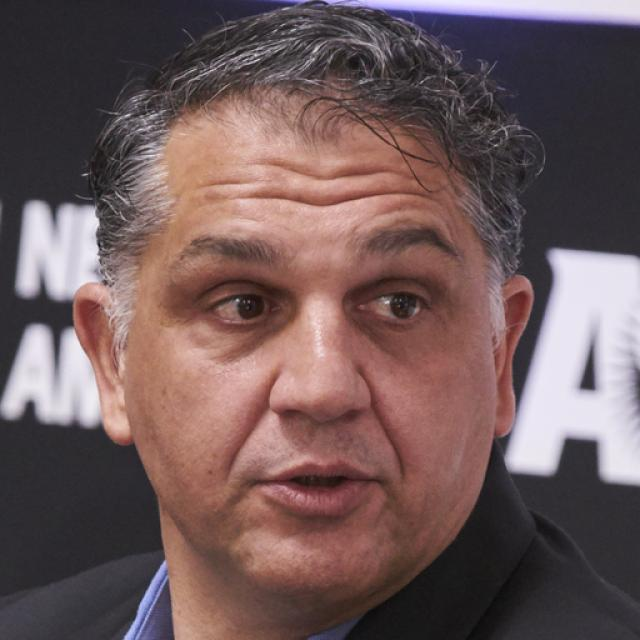Dark Circle: (200, 316, 286, 359), (353, 312, 436, 350)
Wrinkle: (214, 185, 456, 225), (265, 156, 434, 192), (222, 374, 270, 481), (367, 372, 408, 483), (199, 173, 244, 195)
